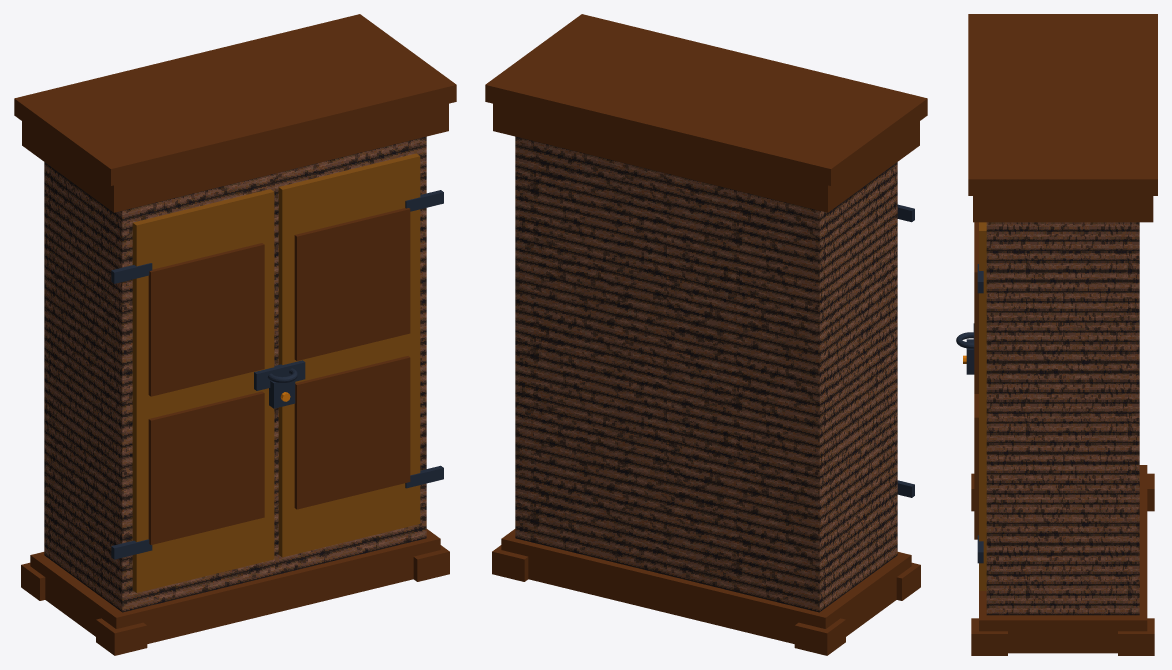
Rendered from armario_nungu.glb.
3 views of the same model, side by side, from view 1: azimuth 30°, elevation 25°; view 2: azimuth 150°, elevation 25°; view 3: azimuth 270°, elevation 25° (orthographic). The views are drawn at different scales.
Parts seen in each view (by area): view 1: Cube.005, Cube.007, Cube.008, Cube.011, Cube.009, Cube.010, Cube.013, Cube.012, Cube, Cube.006, Cube.001, Cube.002 (+2 smaller); view 2: Cube.005, Cube.007, Cube, Cube.006, Cube.003, Cube.004, Cube.001; view 3: Cube.005, Cube.007, Cube, Cube.006, Cube.011, Cube.002, Cube.004, Cube.013, Cube.012, Cube.003.
Part boxes in pixels (x1,y1,x2,y2): Cube.005: (44,136,426,612); Cube.007: (14,14,456,185); Cube.008: (132,189,274,592); Cube.011: (278,153,420,557); Cube.009: (148,391,264,544); Cube.010: (148,243,264,396); Cube.013: (294,208,410,360); Cube.012: (294,356,410,509); Cube: (30,529,440,643); Cube.006: (22,103,448,212); Cube.001: (96,618,147,655); Cube.002: (413,545,449,581); Cube.005: (515,136,897,612); Cube.007: (485,14,927,185); Cube: (501,529,911,643); Cube.006: (493,103,919,212); Cube.003: (794,618,845,655); Cube.004: (492,545,528,581); Cube.001: (896,562,920,600); Cube.005: (986,222,1139,615); Cube.007: (968,14,1157,195); Cube: (979,465,1147,653); Cube.006: (973,196,1153,222); Cube.011: (979,222,986,590); Cube.002: (971,618,1007,655); Cube.004: (1118,618,1154,655); Cube.013: (974,222,978,393); Cube.012: (974,394,978,539); Cube.003: (1147,473,1154,511).
Size of the model in its own units: 2.56 by 3.56 by 1.32.
Materials: 6 (1 with a texture image).
